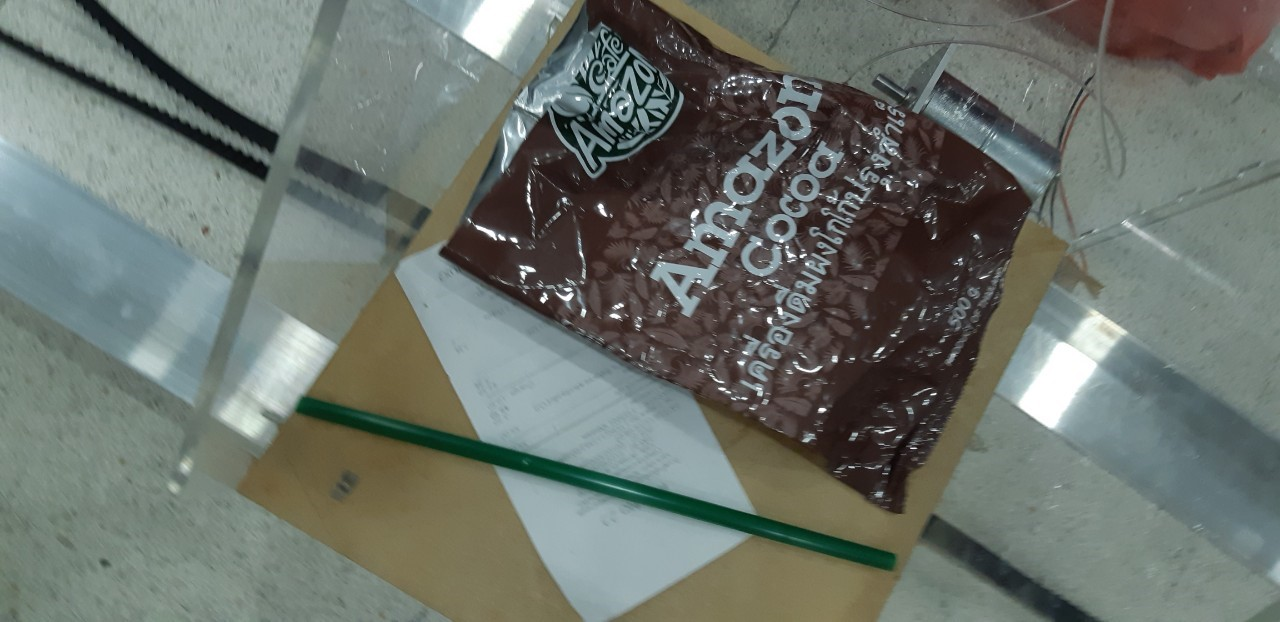Others: (442, 5, 1041, 518), (395, 233, 764, 618), (290, 393, 898, 575)
